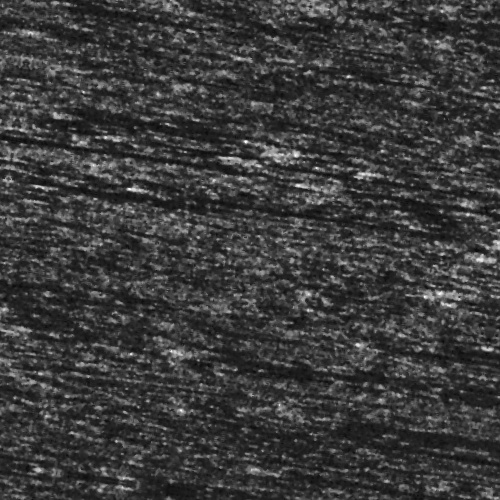object: (174, 157, 279, 166), (98, 201, 171, 210)
shadow: (0, 491, 325, 500), (227, 157, 499, 166), (134, 201, 401, 210)
